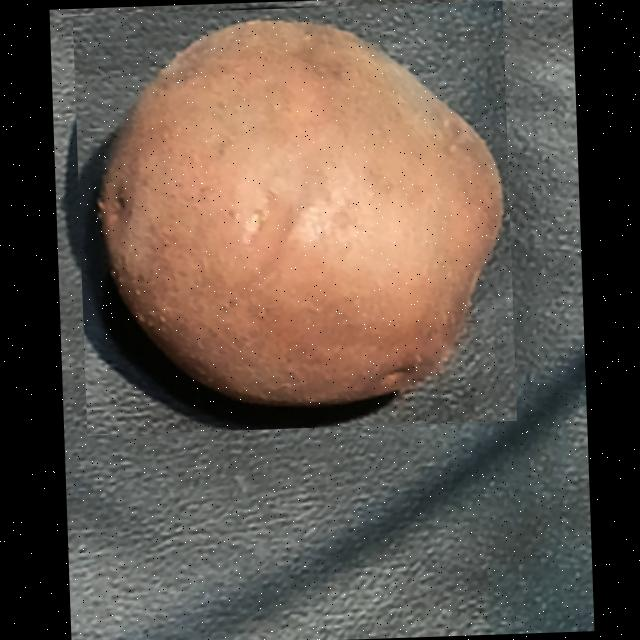Diseased-fungal potato: (72, 1, 516, 436)
